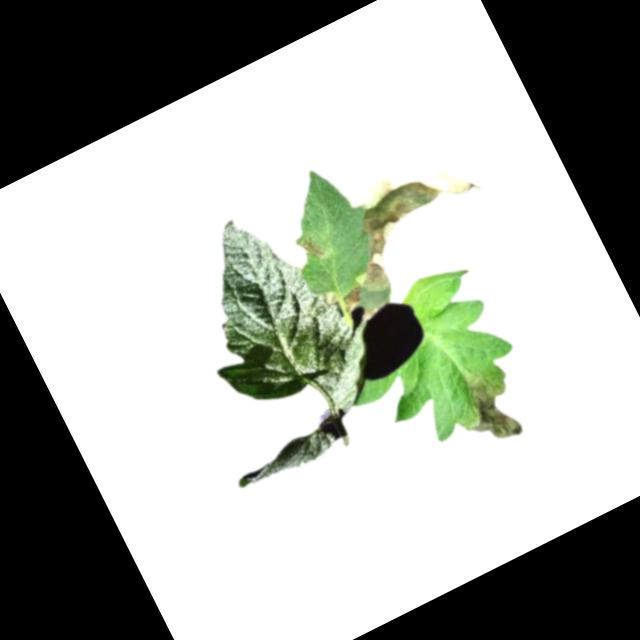Late_blight: (321, 140, 497, 300), (448, 363, 531, 454), (297, 230, 330, 266), (338, 283, 369, 312)
healthy: (158, 193, 383, 458)
